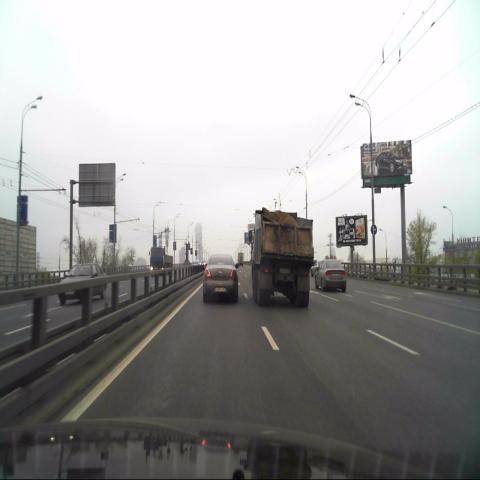4_1_4: (370, 224, 377, 235)
